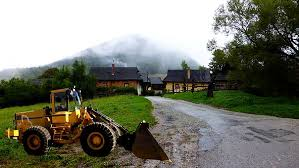bulldozer: (10, 87, 166, 162)
